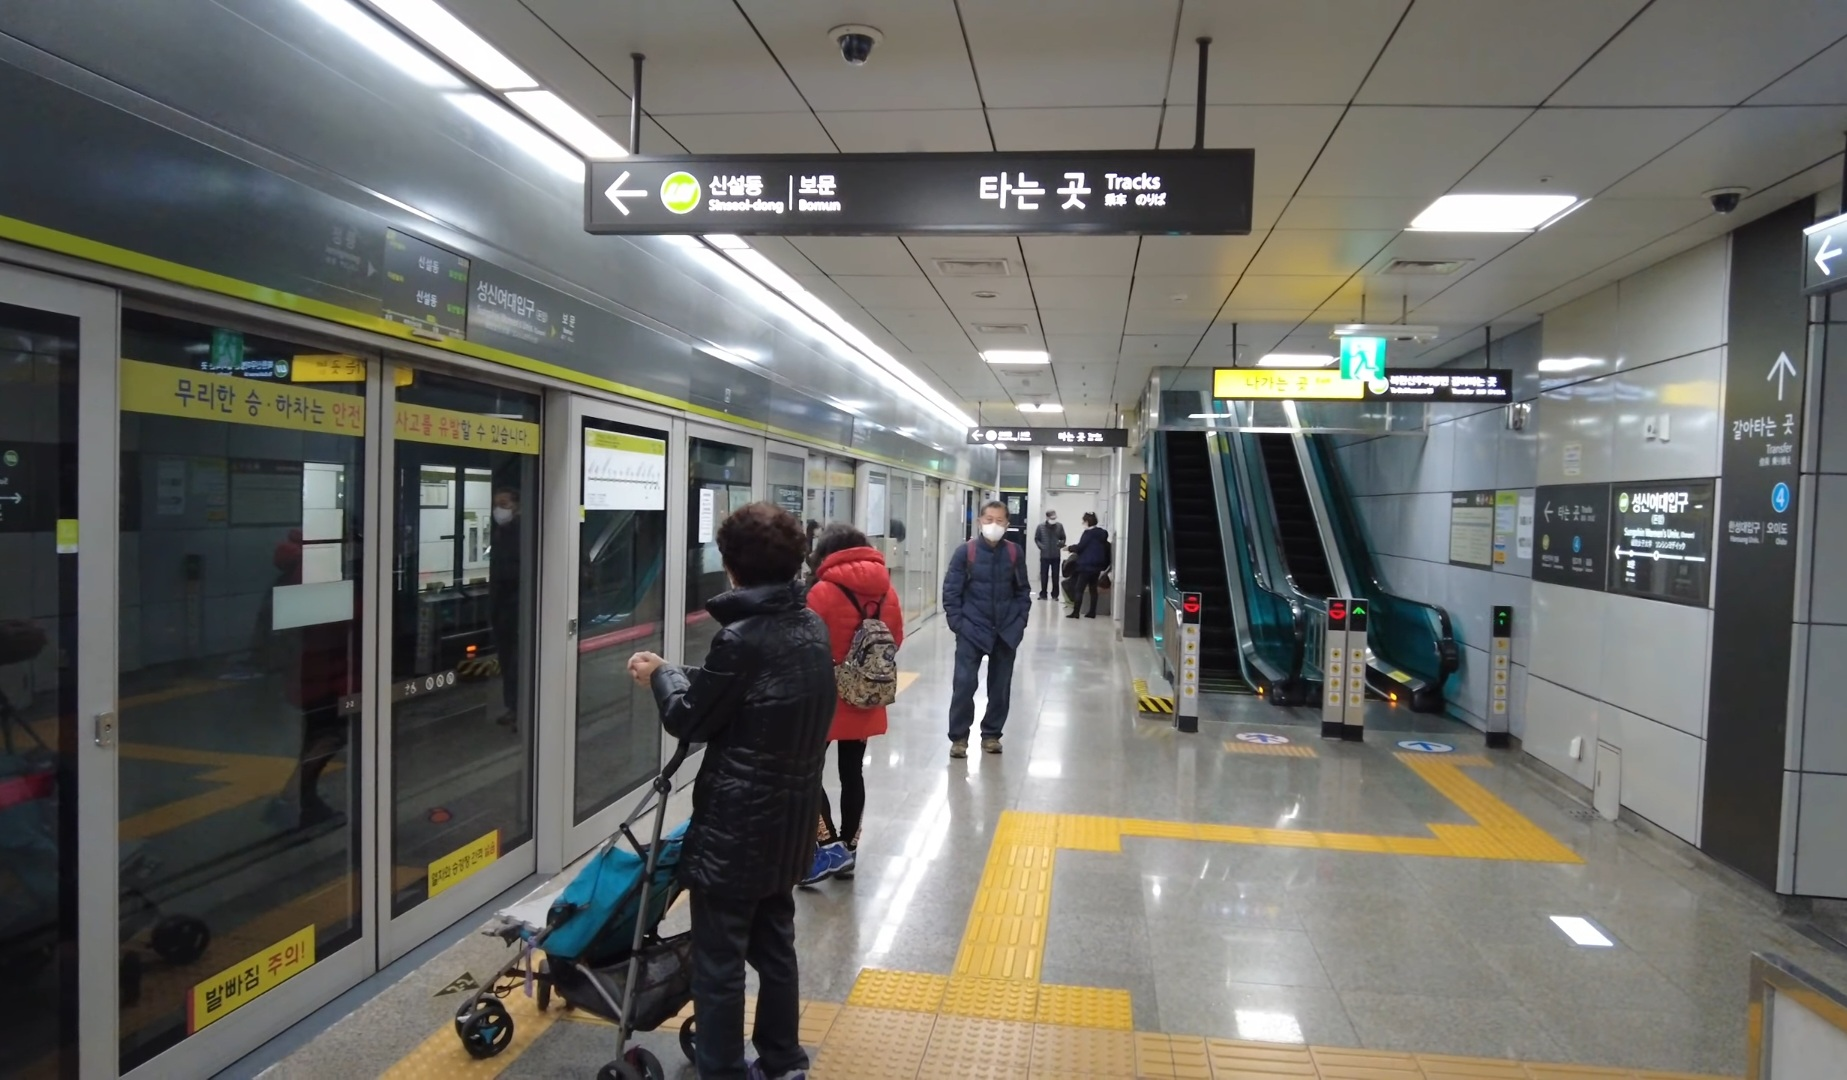signBoard: (578, 148, 1261, 246)
